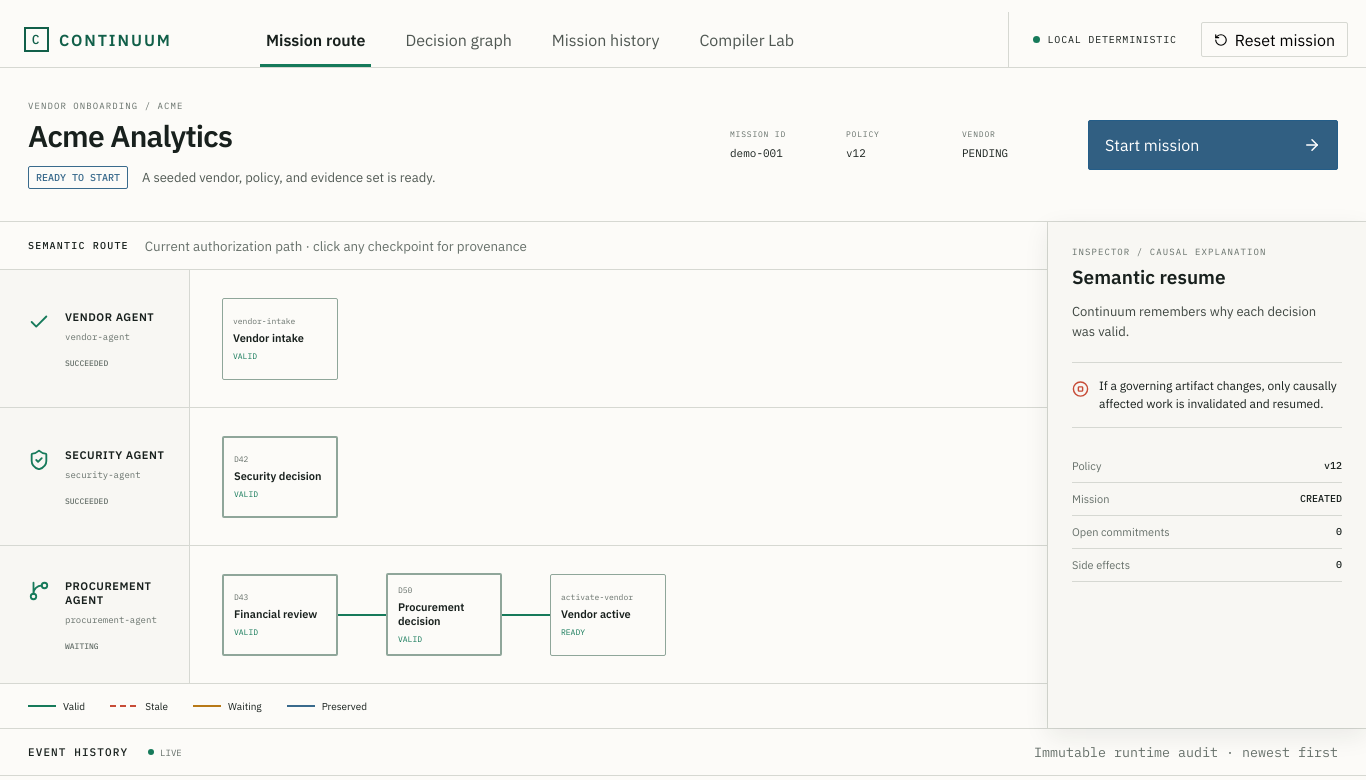
App › retries a failed mission command without losing the current phase
Click the button "Start mission": (1213, 144) x1=1088 y1=120 x2=1338 y2=170
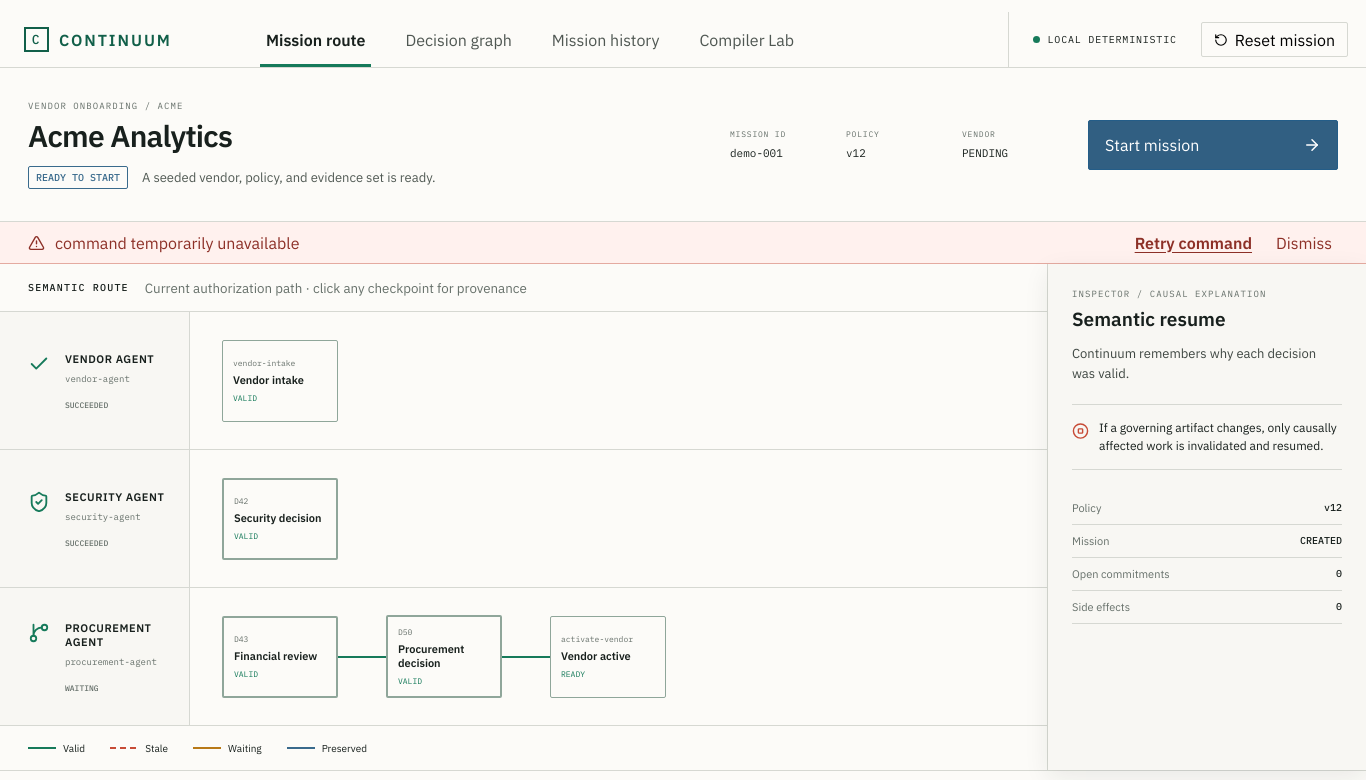
Now the text "command temporarily unavailable" is shown, box x1=55 y1=232 x2=299 y2=252
Click the button "Retry command": (1193, 242) x1=1129 y1=232 x2=1258 y2=254
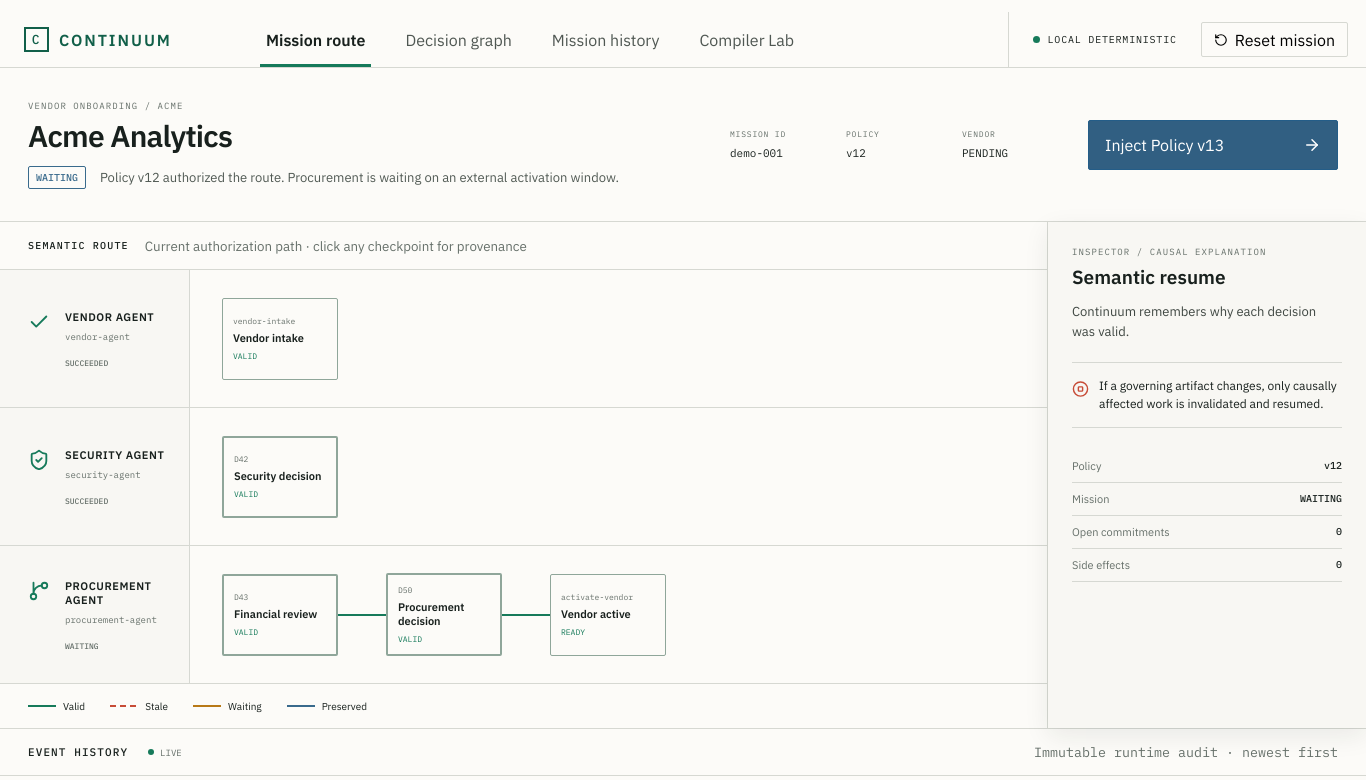
Now the button "Inject Policy v13" is shown, box x1=1088 y1=120 x2=1338 y2=170
